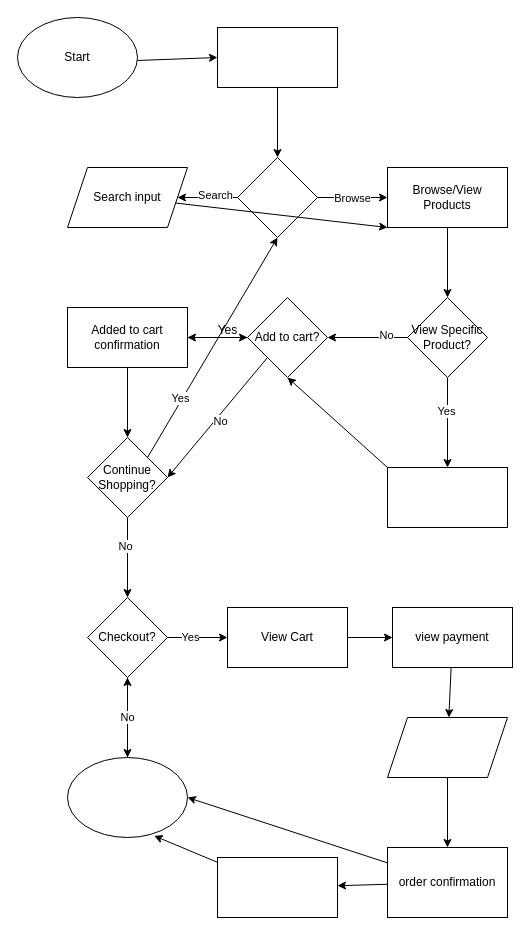
Image size: 530x935. Some labels were removed from this diagram. Each missing label, with the centre of its shape:
"email sent" goes at [277,887].
"Enter Website" goes at [277,57].
"Leave website" goes at [127,797].
"Payment info output" goes at [447,747].
"Product Page" goes at [447,497].
"Search or Browse?" goes at [277,197].
